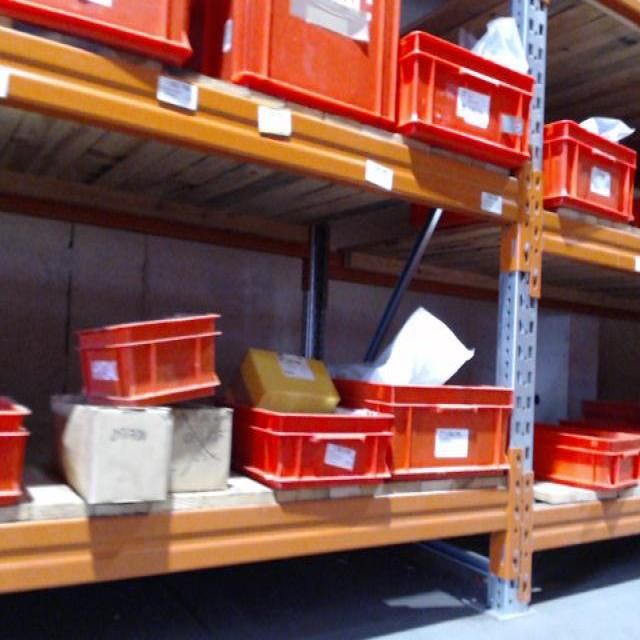small_load_carrier: (192, 4, 405, 128), (319, 379, 520, 484), (395, 35, 538, 167), (81, 301, 230, 412), (228, 405, 398, 490), (1, 1, 198, 69), (529, 116, 640, 228), (527, 423, 640, 500), (0, 382, 35, 504)
